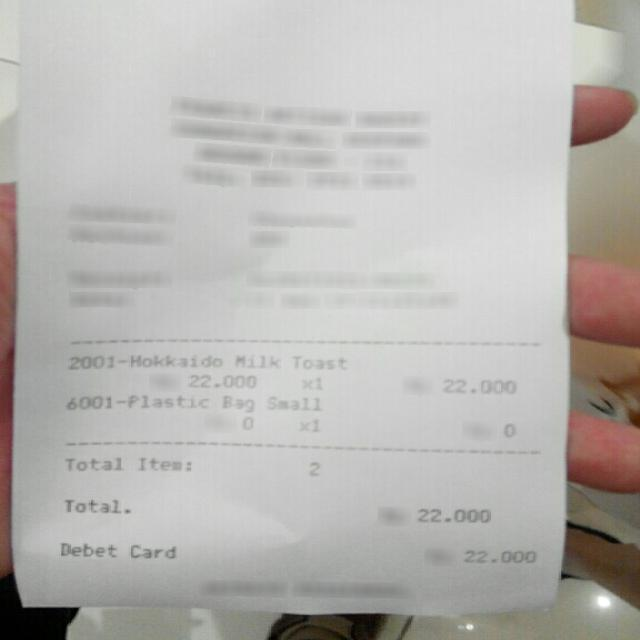kertas: (12, 0, 572, 617)
